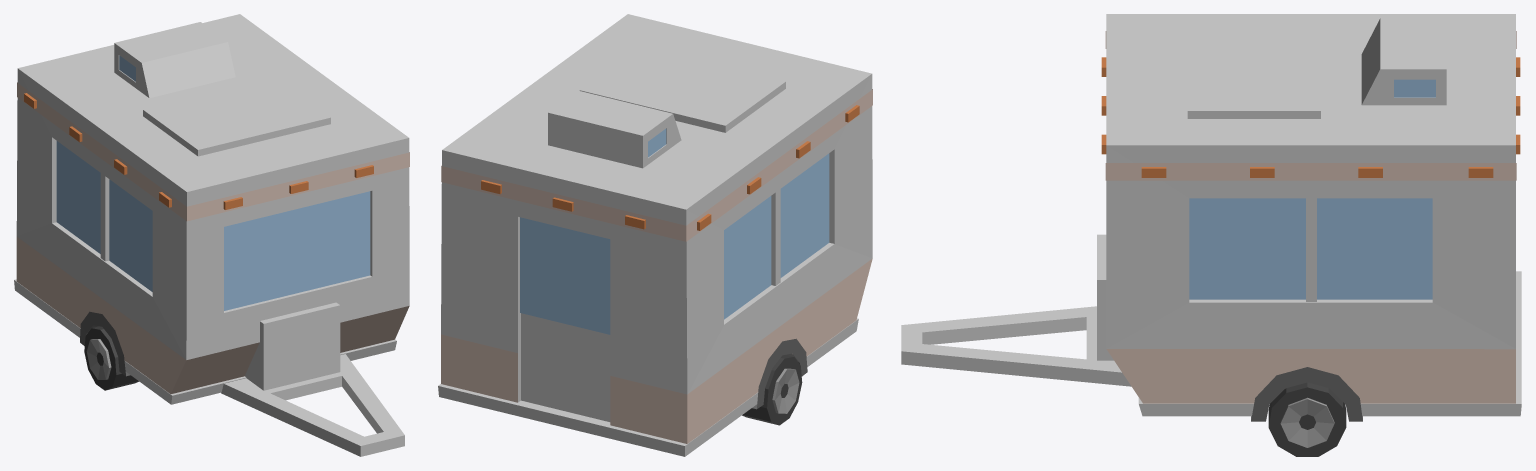
The model's file is transport_old_011.glb.
3 views of the same model, side by side, from view 1: azimuth 30°, elevation 25°; view 2: azimuth 150°, elevation 25°; view 3: azimuth 270°, elevation 25° (orthographic). The views are drawn at different scales.
Visible parts, largest first — view 1: transport_old_011; view 2: transport_old_011; view 3: transport_old_011.
Part boxes in pixels (box(x1,y1,x2,y2)): transport_old_011: box(14, 14, 409, 456); transport_old_011: box(438, 14, 872, 456); transport_old_011: box(901, 14, 1521, 456).
Bounding box in the file's own units: 1.57 × 1.83 × 2.97.
Materials: 1 (1 with a texture image).
